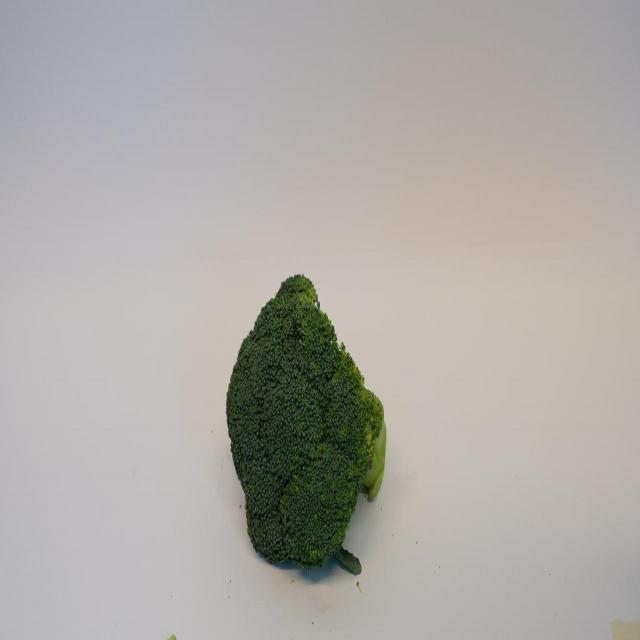broccoli: (224, 258, 392, 580)
